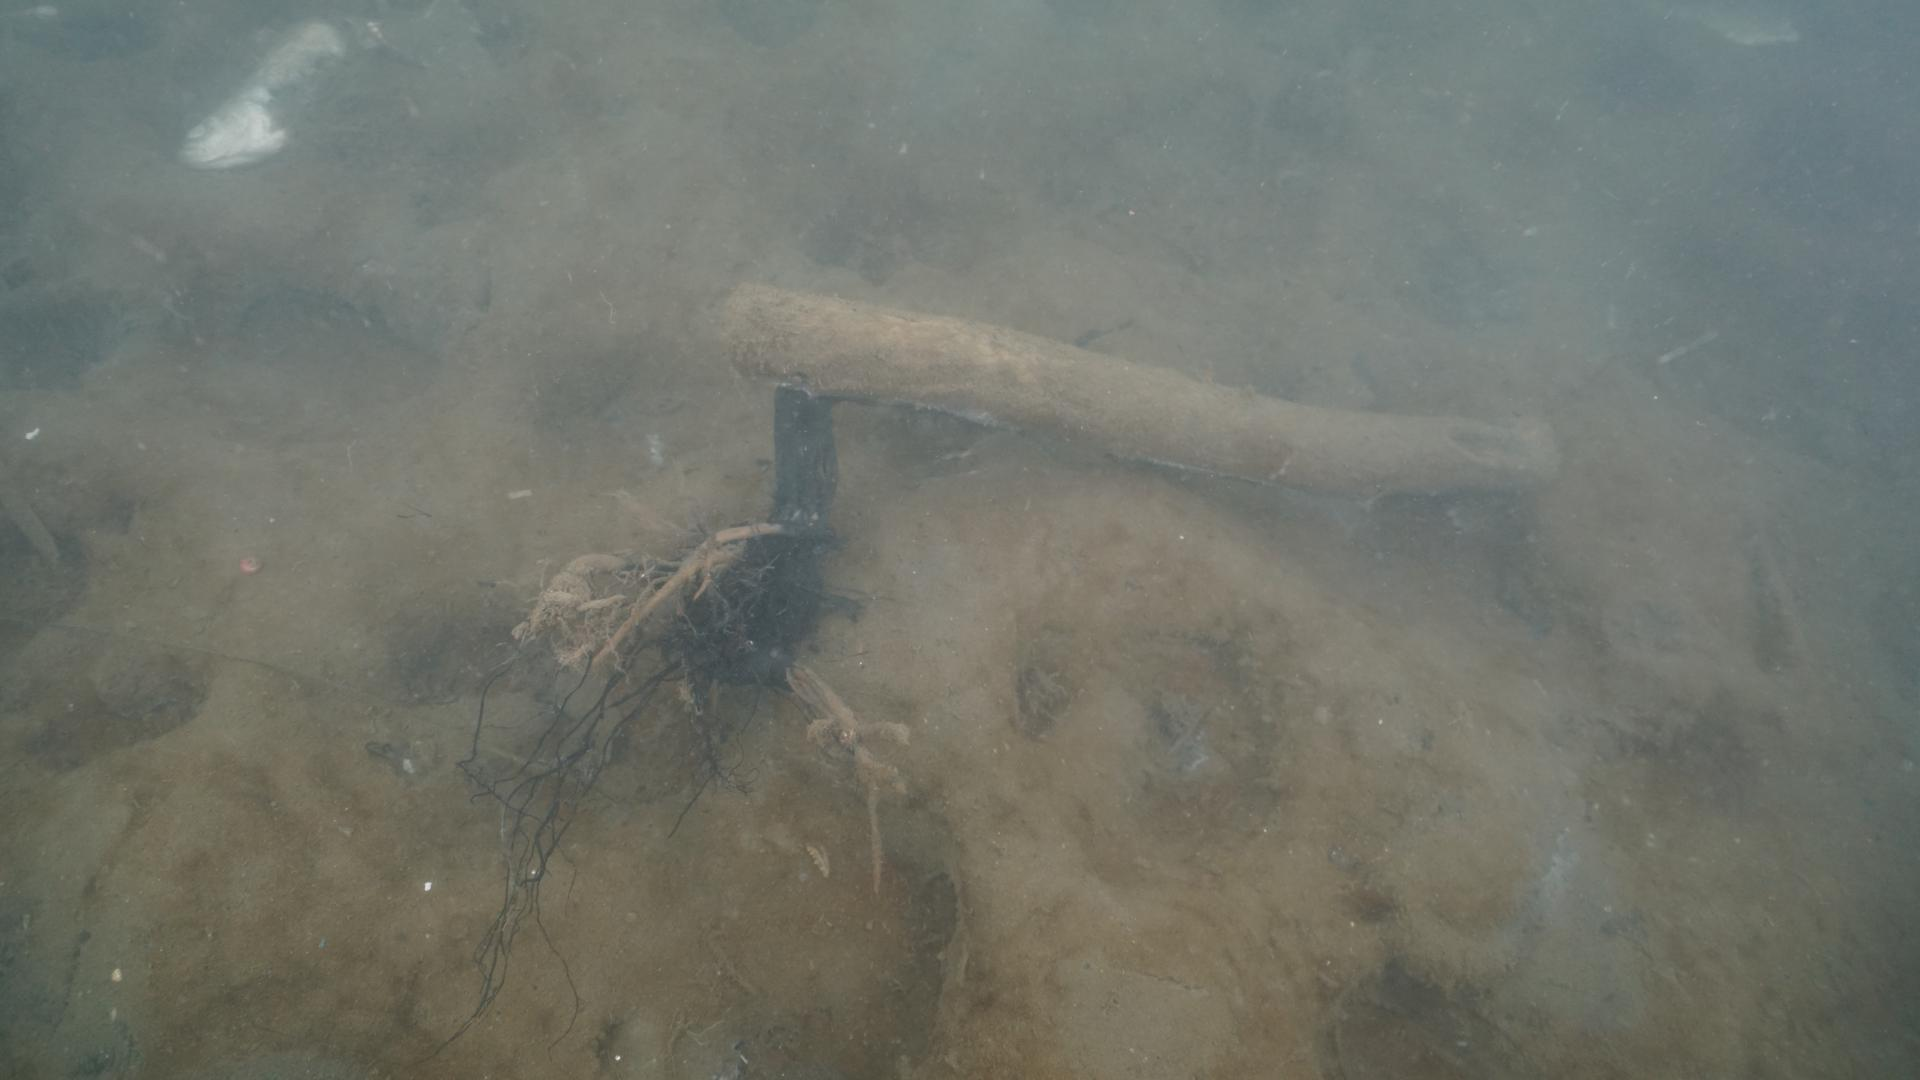wood: (727, 284, 1565, 496)
